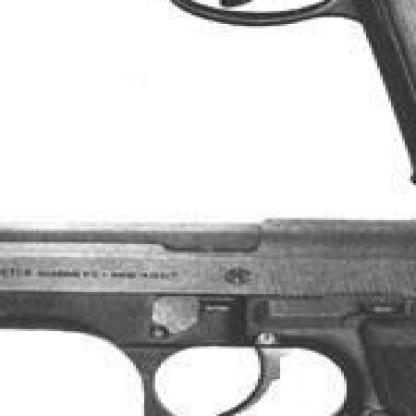gun: (0, 198, 413, 414), (0, 0, 413, 198)
